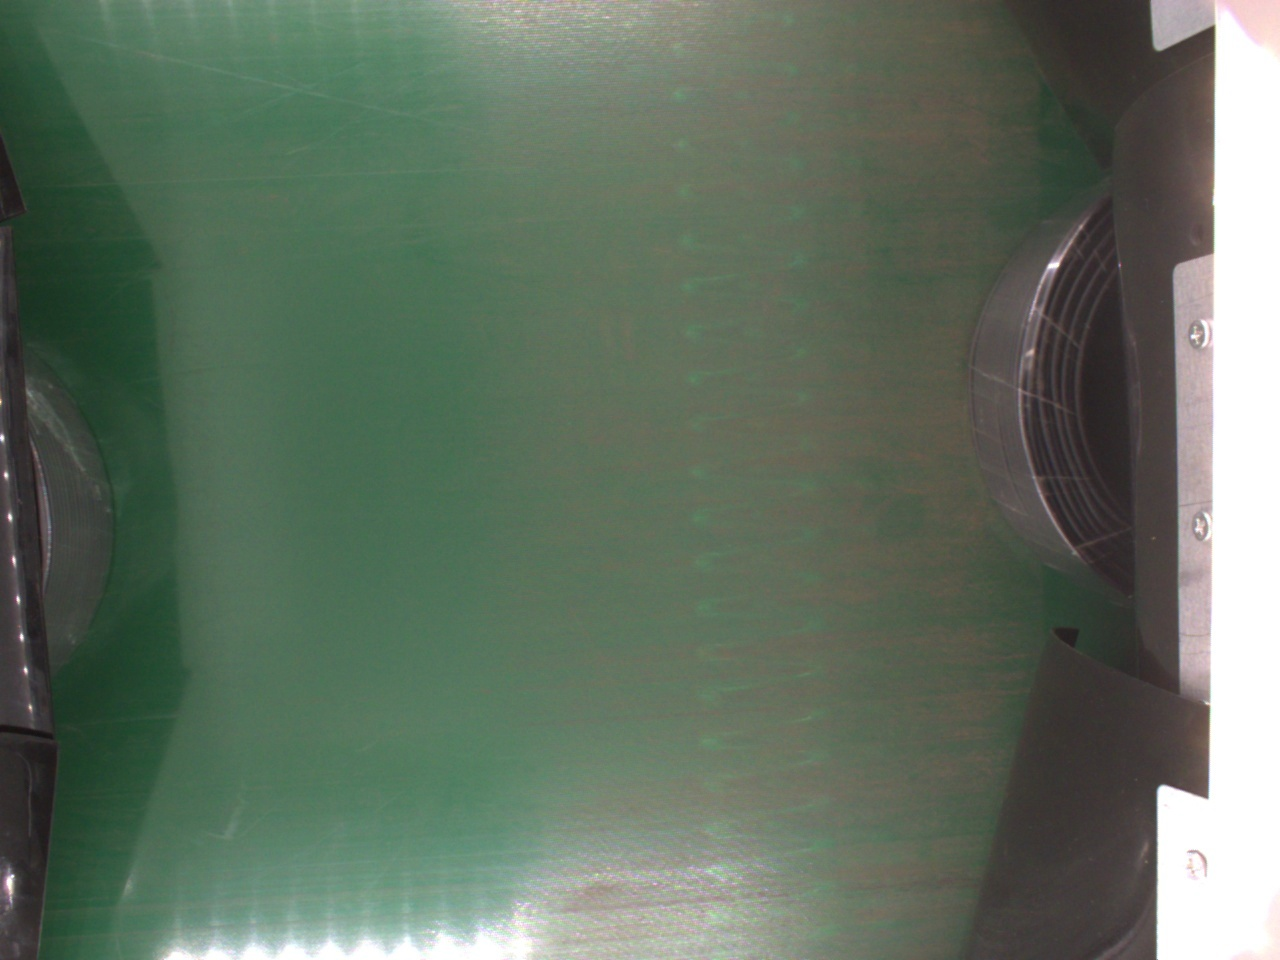black: (963, 195, 1135, 594)
